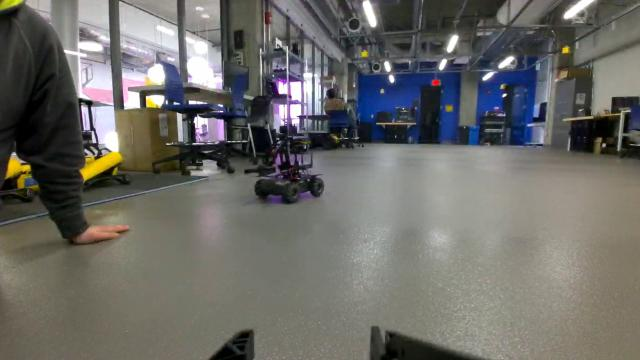robot: (240, 128, 330, 207)
